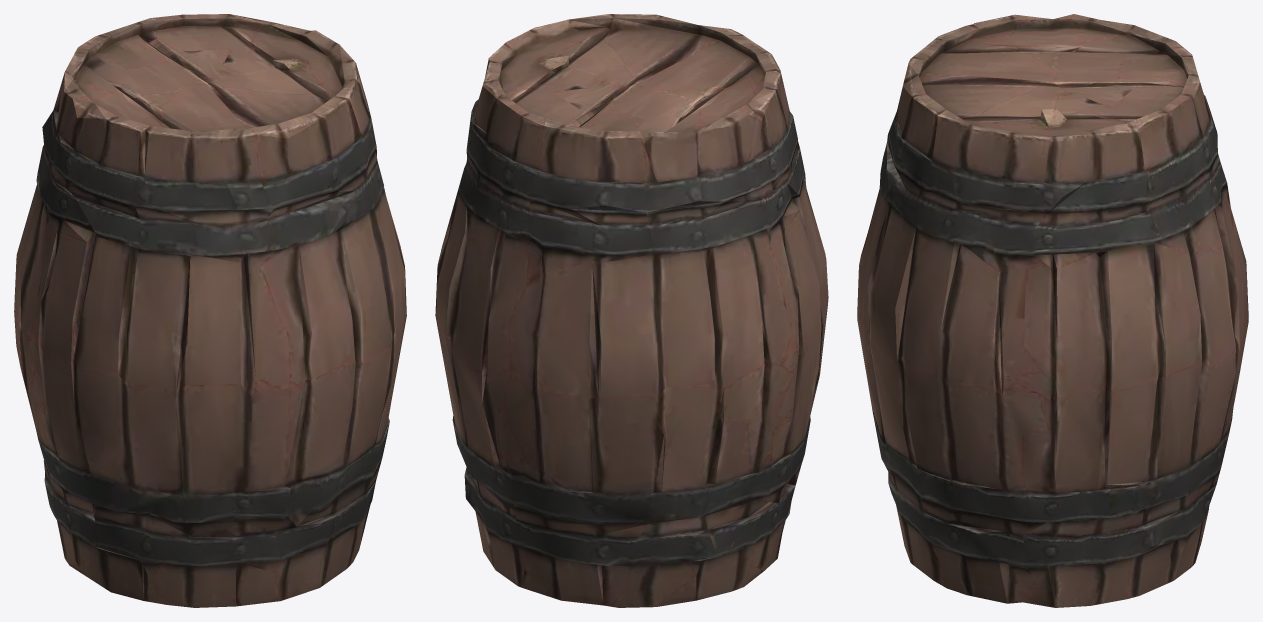
File: prop_barrel.cef07214.glb
3 views of the same model, side by side, from view 1: azimuth 30°, elevation 25°; view 2: azimuth 150°, elevation 25°; view 3: azimuth 270°, elevation 25° (orthographic).
Parts seen in each view (by area): view 1: tripo_node_30d07ec7-199e-4c3d-8a98-f774d71074d5; view 2: tripo_node_30d07ec7-199e-4c3d-8a98-f774d71074d5; view 3: tripo_node_30d07ec7-199e-4c3d-8a98-f774d71074d5.
Boxes of the visible parts, box(x1,y1,x2,y2) form: tripo_node_30d07ec7-199e-4c3d-8a98-f774d71074d5: box(14, 14, 406, 607); tripo_node_30d07ec7-199e-4c3d-8a98-f774d71074d5: box(435, 14, 828, 607); tripo_node_30d07ec7-199e-4c3d-8a98-f774d71074d5: box(857, 14, 1248, 607).
Size of the model in its own units: 0.752 by 0.9998 by 0.753.
Materials: 1 (1 with a texture image).
